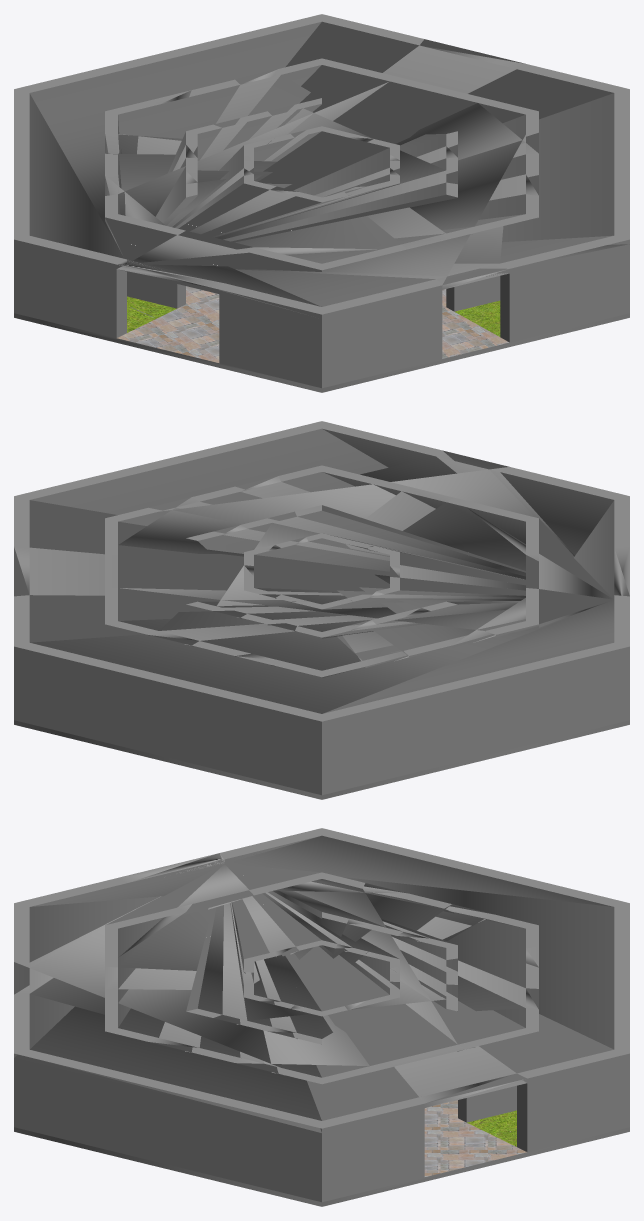
3 views of the same model, one above another, from view 1: azimuth 30°, elevation 25°; view 2: azimuth 150°, elevation 25°; view 3: azimuth 270°, elevation 25° (orthographic).
Parts seen in each view (by area): view 1: Cylinder033; view 2: Cylinder033; view 3: Cylinder033.
Part boxes in pixels (box(x1,y1,x2,y2)): Cylinder033: box(14, 14, 629, 392); Cylinder033: box(14, 421, 629, 799); Cylinder033: box(14, 828, 629, 1206).
Size of the model in its own units: 140 by 17 by 121.
5 materials, 2 textured.
